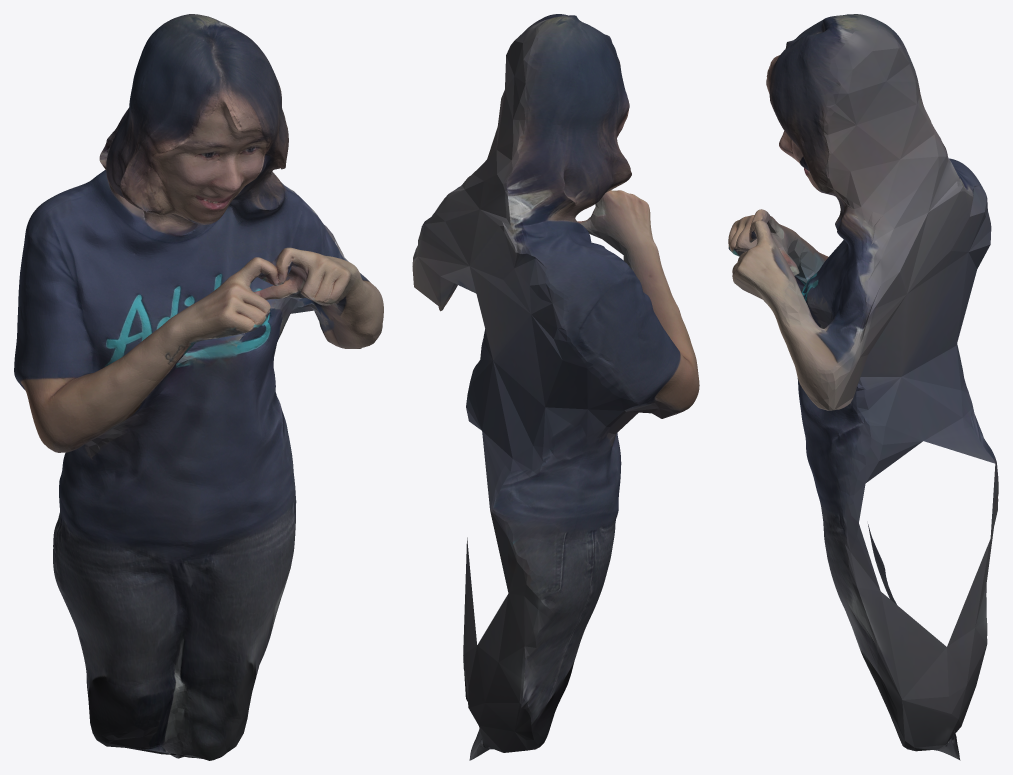
The picture shows the model from 3 angles, left to right: view 1: azimuth 30°, elevation 25°; view 2: azimuth 150°, elevation 25°; view 3: azimuth 270°, elevation 25°; orthographic projection. The views are drawn at different scales.
Size of the model in its own units: 0.4324 by 0.9975 by 0.3365.
Materials: 1 (1 with a texture image).
